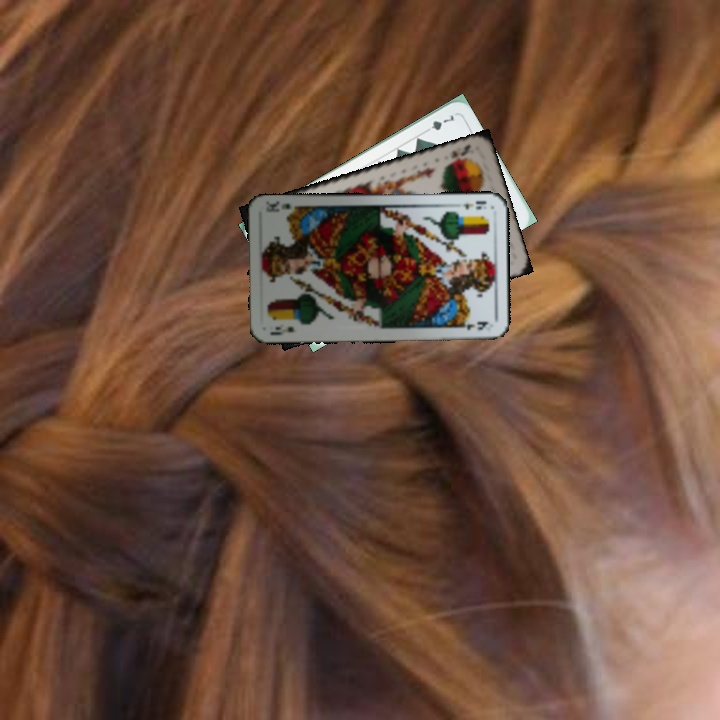EK: (267, 322, 297, 338), (459, 196, 488, 212)
G7: (420, 110, 456, 136)
SK: (443, 141, 473, 166)
